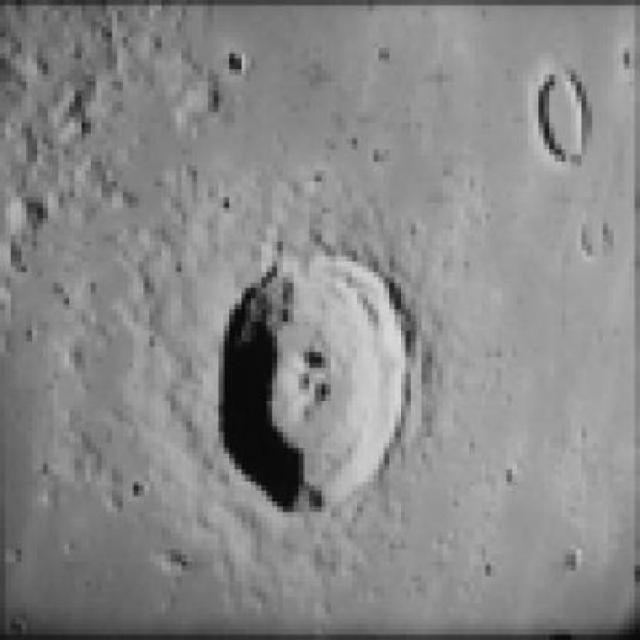crater: (218, 255, 410, 527), (532, 67, 585, 161)
